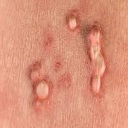Wart: (69, 12, 115, 99), (27, 64, 54, 116)
